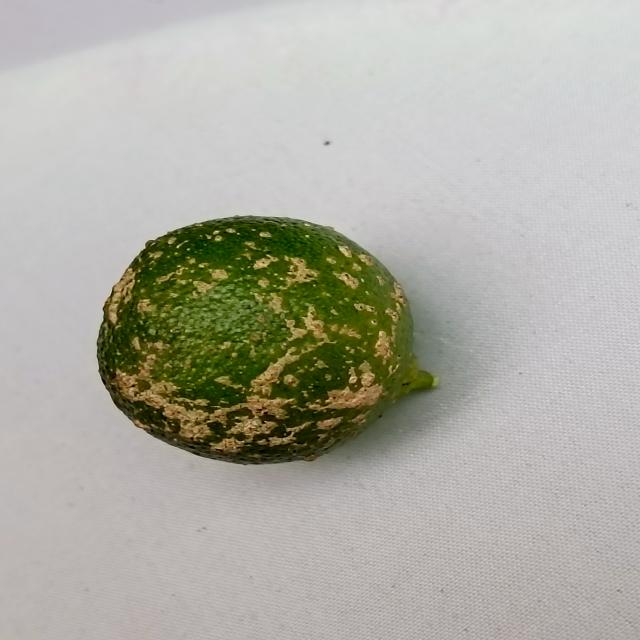scab: (92, 211, 432, 465)
